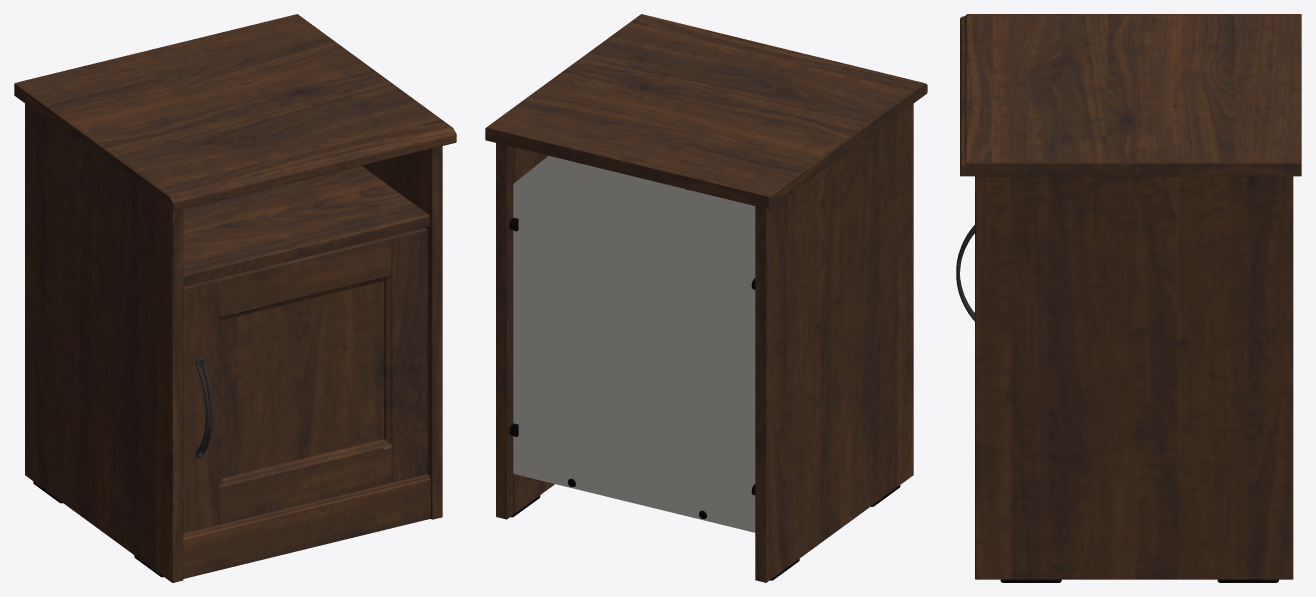
The model's file is songesand_nightstand_brown.glb.
3 views of the same model, side by side, from view 1: azimuth 30°, elevation 25°; view 2: azimuth 150°, elevation 25°; view 3: azimuth 270°, elevation 25° (orthographic). The views are drawn at different scales.
Parts seen in each view (by area): view 1: model; view 2: model; view 3: model.
Boxes of the visible parts, box(x1,y1,x2,y2) form: model: box(14, 14, 456, 582); model: box(485, 14, 927, 582); model: box(956, 14, 1301, 582).
Size of the model in its own units: 0.4161 by 0.552 by 0.4072.
1 material, 1 textured.
